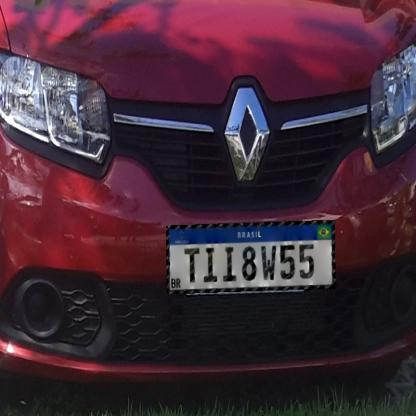PlacaM: (166, 220, 336, 294)
